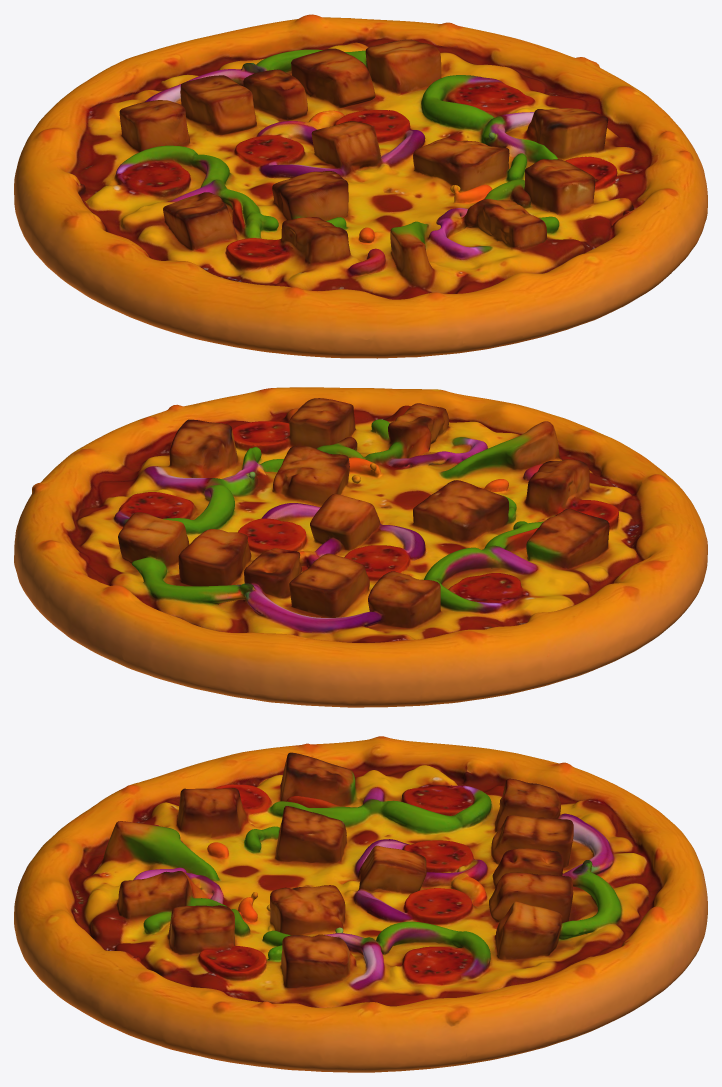
Rendered from tripo_convert_2b26a028-6171-4546-8905-a7df1f2bf6f2.fbx.
3 views of the same model, one above another, from view 1: azimuth 30°, elevation 25°; view 2: azimuth 150°, elevation 25°; view 3: azimuth 270°, elevation 25° (orthographic).
Parts seen in each view (by area): view 1: tripo_node_2b26a028; view 2: tripo_node_2b26a028; view 3: tripo_node_2b26a028.
Boxes of the visible parts, left/top/right/bottom form: tripo_node_2b26a028: left=14, top=14, right=707, bottom=358; tripo_node_2b26a028: left=14, top=387, right=707, bottom=707; tripo_node_2b26a028: left=14, top=736, right=707, bottom=1072.
Bounding box in the file's own units: 1 × 0.1649 × 0.9998.
